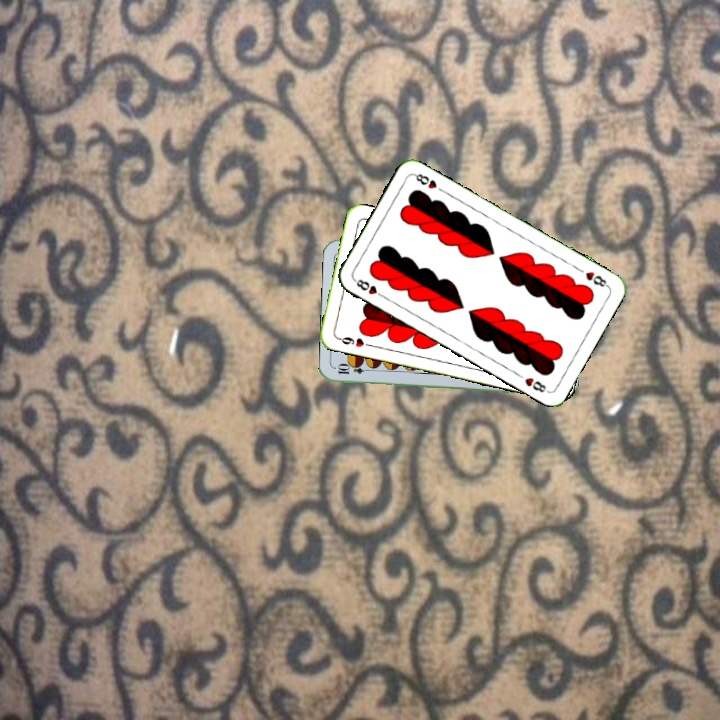E10: (333, 362, 374, 377)
H8: (350, 275, 387, 300), (581, 267, 611, 289)
H9: (333, 333, 374, 350)
